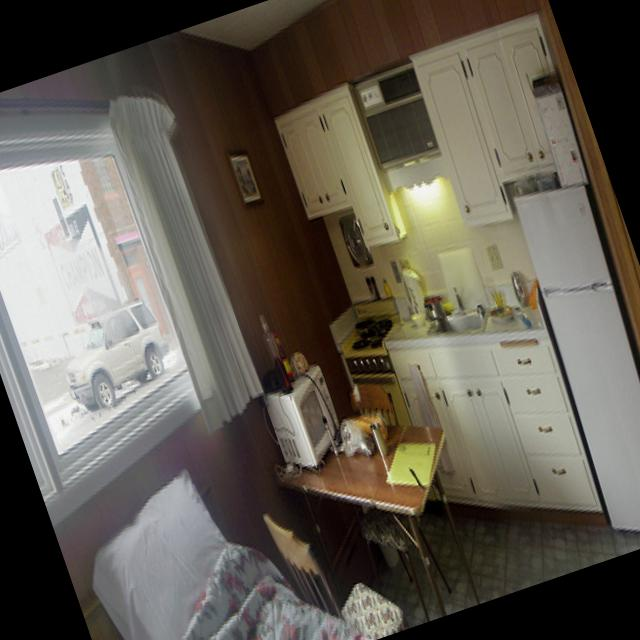Vehicle: (46, 290, 184, 424)
